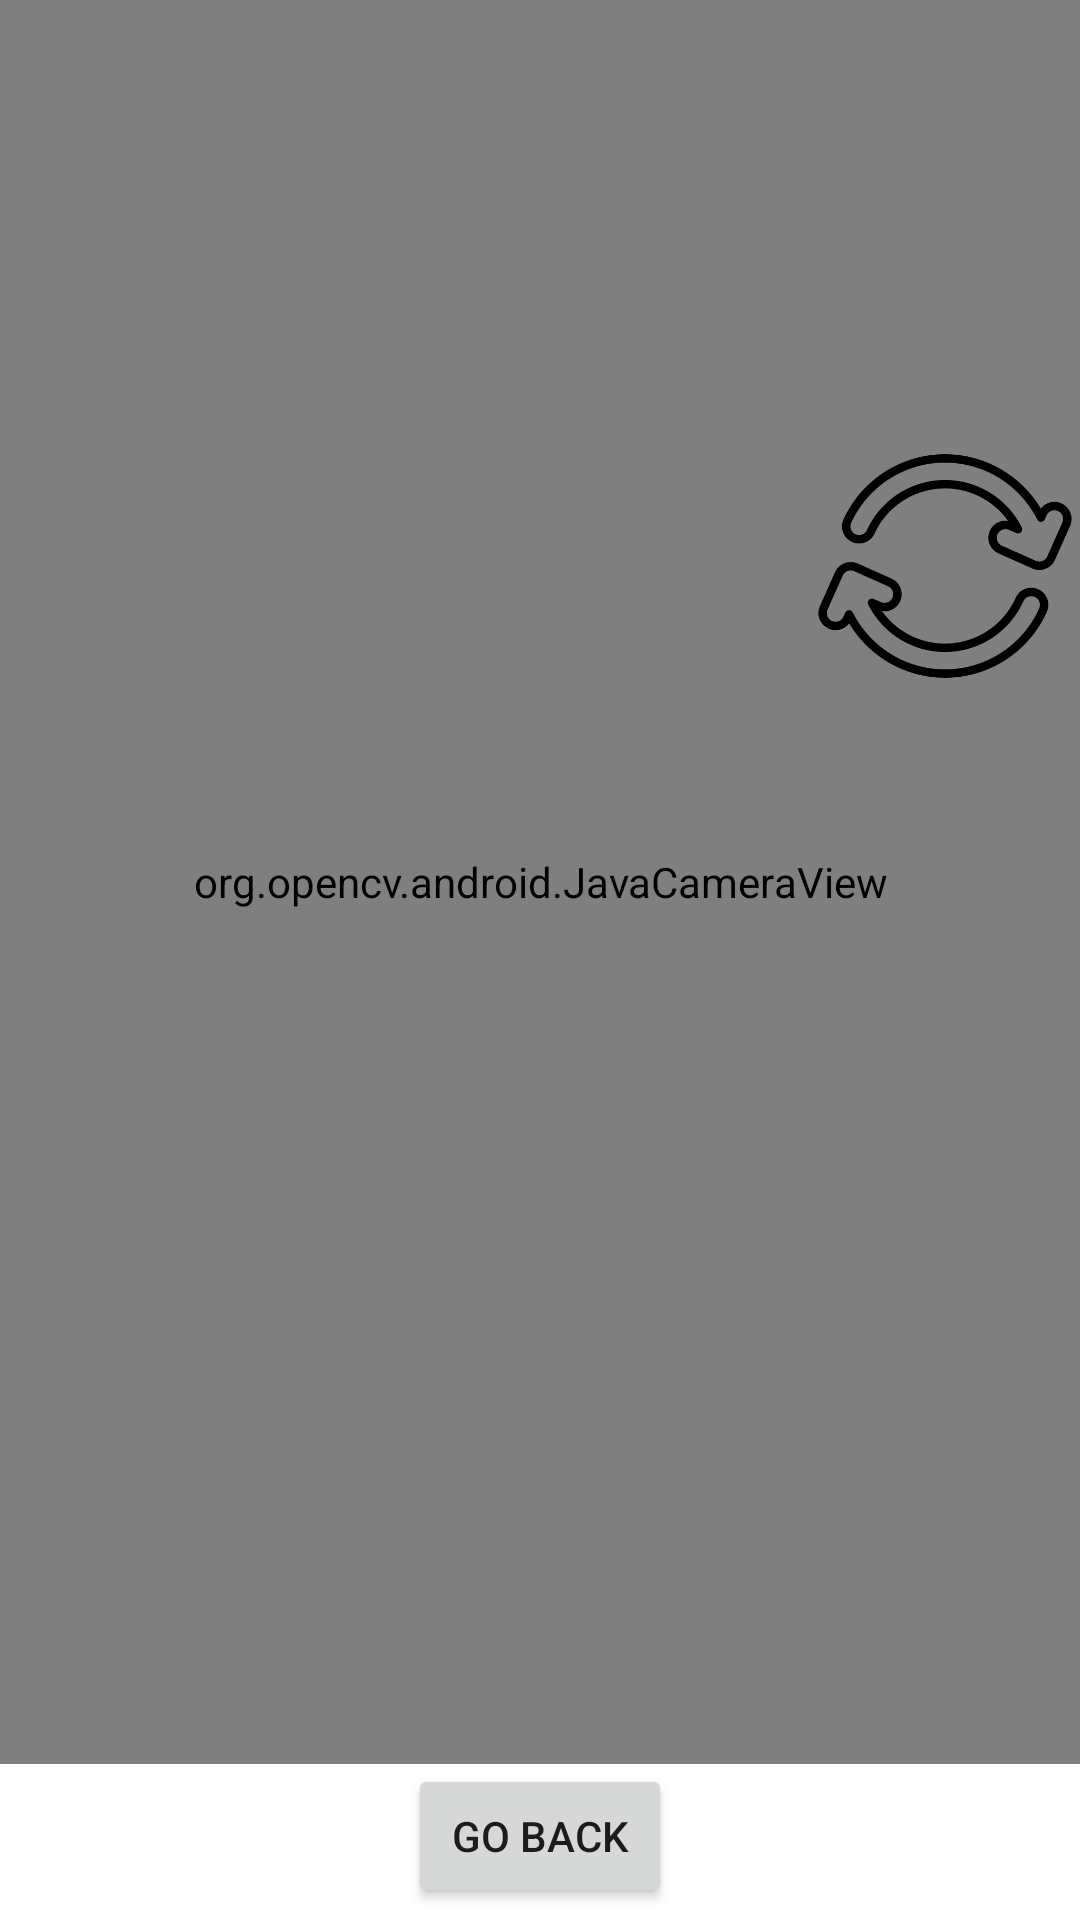

Icon click points for this 1080px x 1920px phone screenshot, format point (x, y):
reload: point (945, 566)
